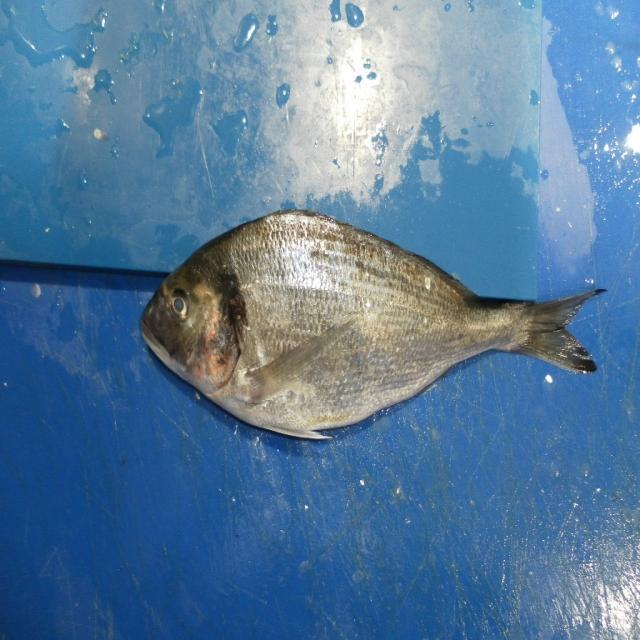Gilt-Head-Bream-c-ipura-: (138, 210, 603, 443)
